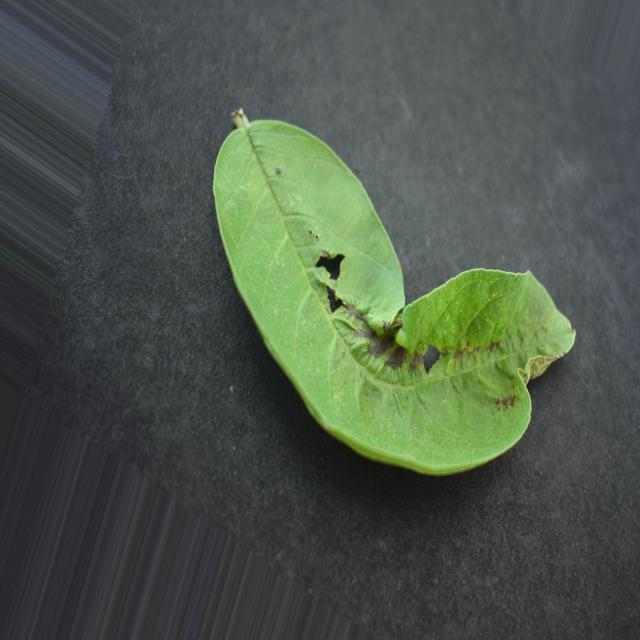Canker: (214, 111, 575, 474)
